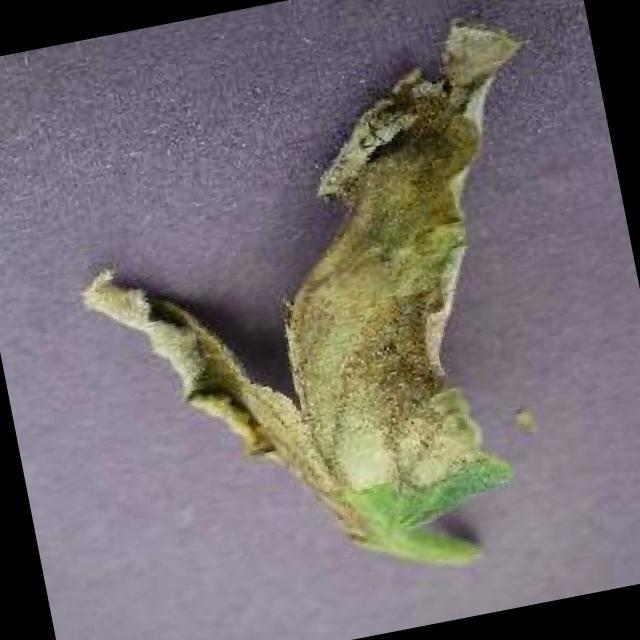Tomato late blight leaf: (39, 0, 616, 590)
